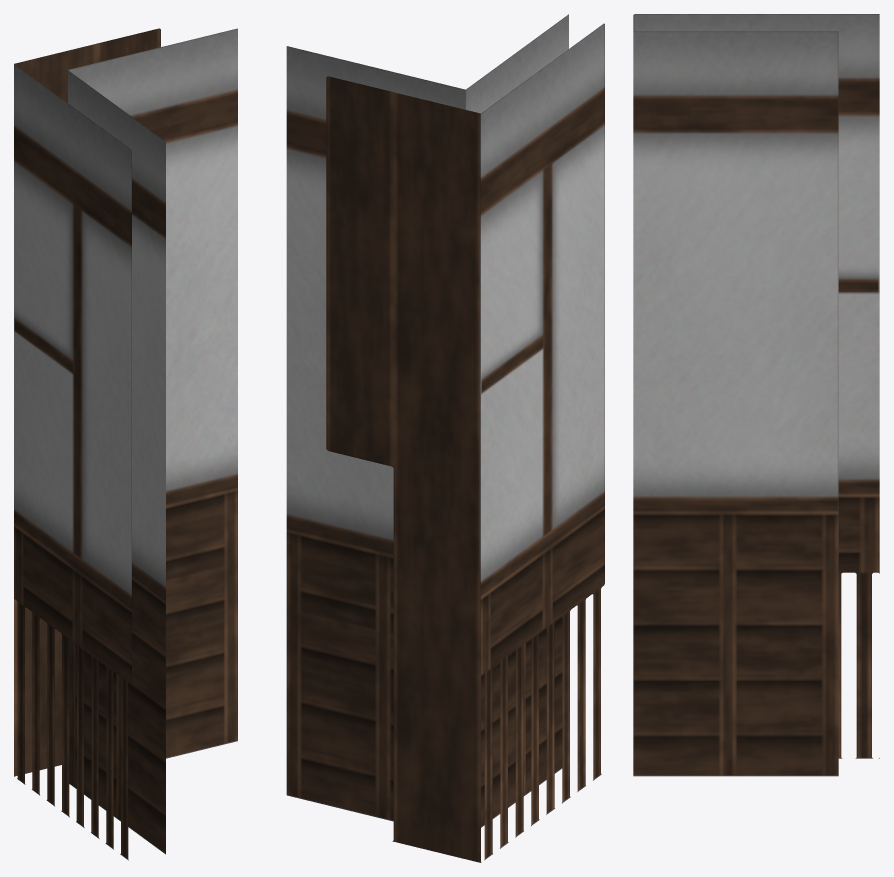
The model's file is house_inner_corner.fbx.
The picture shows the model from 3 angles, left to right: view 1: azimuth 30°, elevation 25°; view 2: azimuth 150°, elevation 25°; view 3: azimuth 270°, elevation 25°; orthographic projection. The views are drawn at different scales.
Visible parts, largest first — view 1: house_inner_corner; view 2: house_inner_corner; view 3: house_inner_corner.
Part boxes in pixels (<box>): house_inner_corner: <box>14,28,237,860</box>; house_inner_corner: <box>286,14,604,862</box>; house_inner_corner: <box>633,14,879,776</box>.
Bounding box in the file's own units: 120 × 400 × 120.
